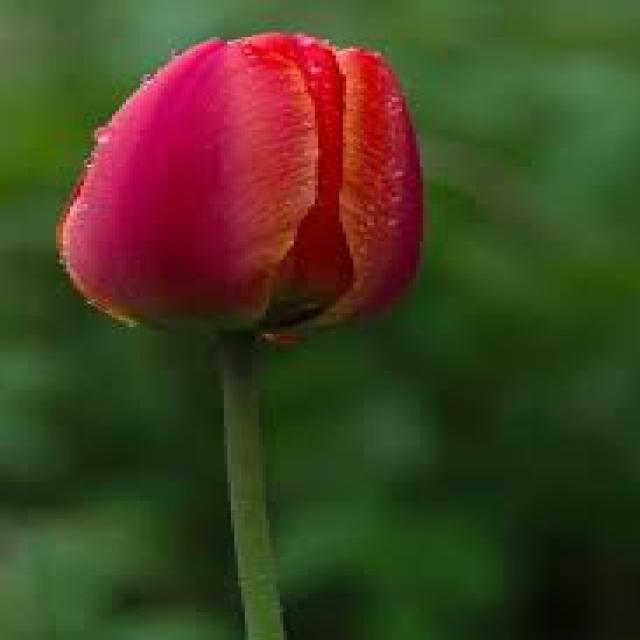tulip: (33, 23, 497, 379)
